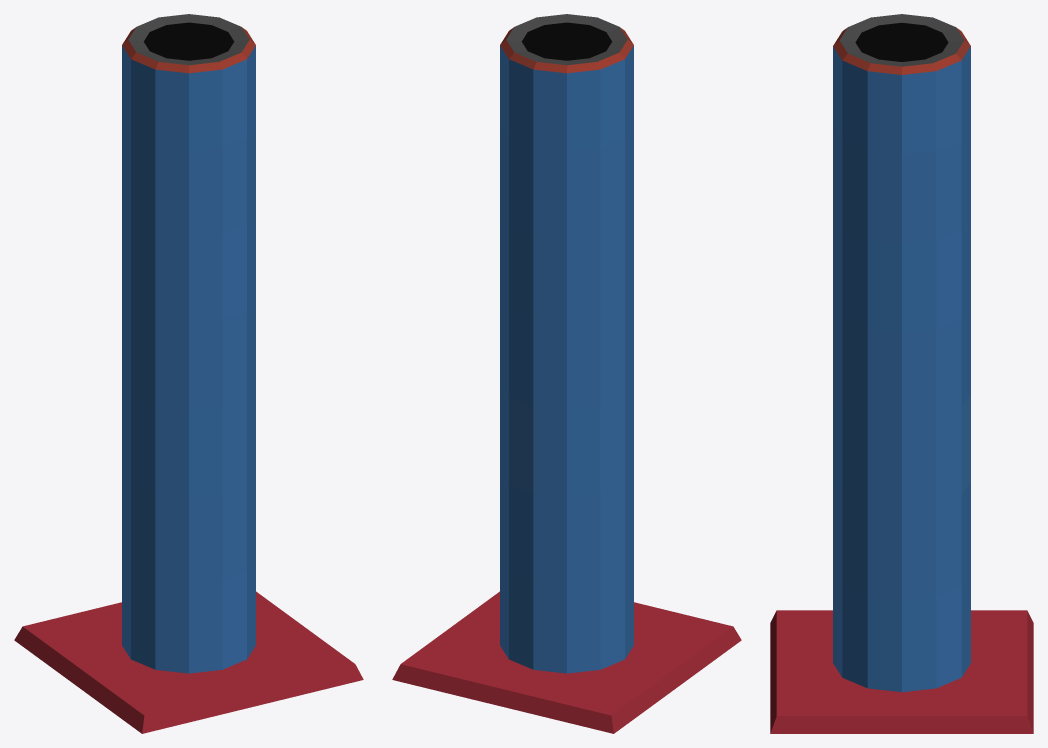
The model's file is BLUM_Tube.fbx.
The picture shows the model from 3 angles, left to right: view 1: azimuth 30°, elevation 25°; view 2: azimuth 150°, elevation 25°; view 3: azimuth 270°, elevation 25°; orthographic projection. The views are drawn at different scales.
Visible parts, largest first — view 1: PreloadedTube_DummyPreloadedTube; view 2: PreloadedTube_DummyPreloadedTube; view 3: PreloadedTube_DummyPreloadedTube.
Boxes of the visible parts, x1,y1,x2,y2 form: PreloadedTube_DummyPreloadedTube: [14, 14, 363, 733]; PreloadedTube_DummyPreloadedTube: [392, 14, 741, 733]; PreloadedTube_DummyPreloadedTube: [770, 14, 1033, 733].
Bounding box in the file's own units: 19.1 × 51.07 × 19.1.
